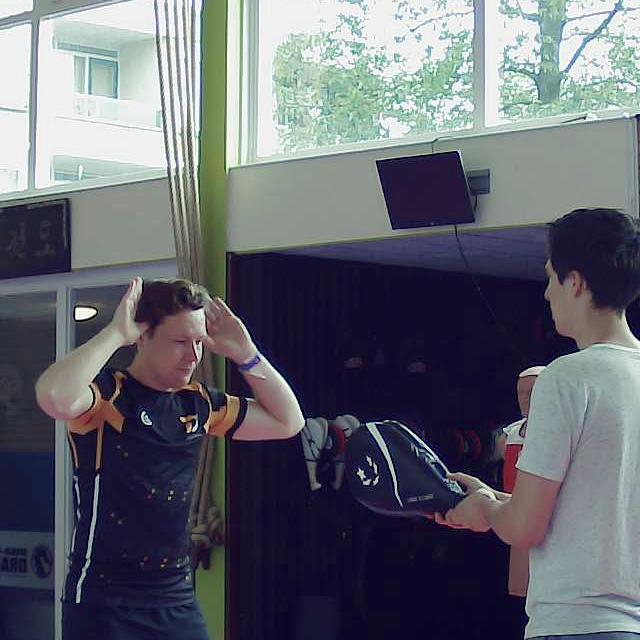paddle: (341, 414, 468, 523)
